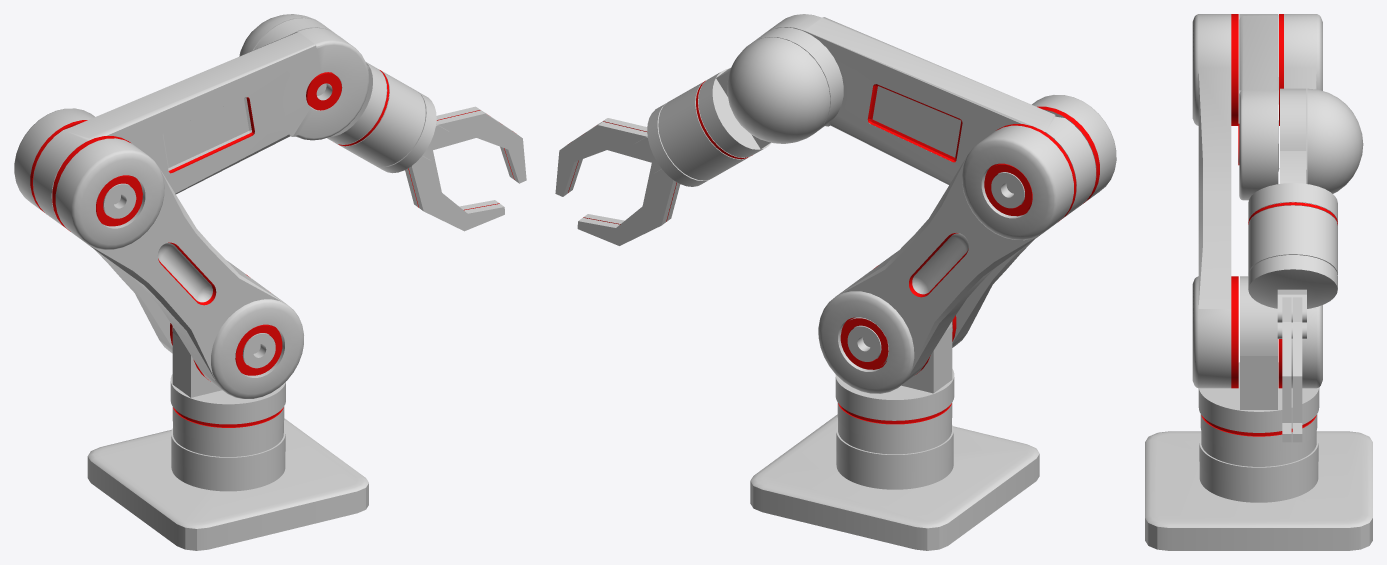
Rendered from robotArm1.fbx.
The picture shows the model from 3 angles, left to right: view 1: azimuth 30°, elevation 25°; view 2: azimuth 150°, elevation 25°; view 3: azimuth 270°, elevation 25°; orthographic projection. The views are drawn at different scales.
Visible parts, largest first — view 1: Cube.001, Cube.003, Cube, Cube.006, Cube.002, Cube.010, Cube.007, Cube.008; view 2: Cube.001, Cube.003, Cube, Cube.006, Cube.002, Cube.010, Cube.007, Cube.008; view 3: Cube, Cube.001, Cube.003, Cube.006, Cube.002, Cube.008, Cube.010, Cube.007.
Boxes of the visible parts, box(x1,y1,x2,y2) form: Cube.001: box(14, 108, 303, 398); Cube.003: box(33, 14, 369, 227); Cube: box(87, 406, 368, 550); Cube.006: box(254, 18, 425, 166); Cube.002: box(170, 278, 285, 424); Cube.010: box(424, 106, 526, 183); Cube.007: box(405, 150, 504, 231); Cube.008: box(374, 92, 452, 174); Cube.001: box(818, 95, 1116, 393); Cube.003: box(727, 14, 1095, 218); Cube: box(750, 403, 1039, 550); Cube.006: box(658, 27, 843, 180); Cube.002: box(835, 270, 954, 420); Cube.010: box(555, 118, 652, 196); Cube.007: box(577, 155, 680, 245); Cube.008: box(631, 103, 709, 187); Cube: box(1145, 414, 1372, 550); Cube.001: box(1192, 14, 1322, 388); Cube.003: box(1238, 14, 1363, 200); Cube.006: box(1248, 88, 1337, 275); Cube.002: box(1198, 276, 1319, 432); Cube.008: box(1248, 255, 1337, 338); Cube.010: box(1282, 297, 1302, 422); Cube.007: box(1282, 423, 1302, 442).
Size of the model in its own units: 585 by 490 by 223.
